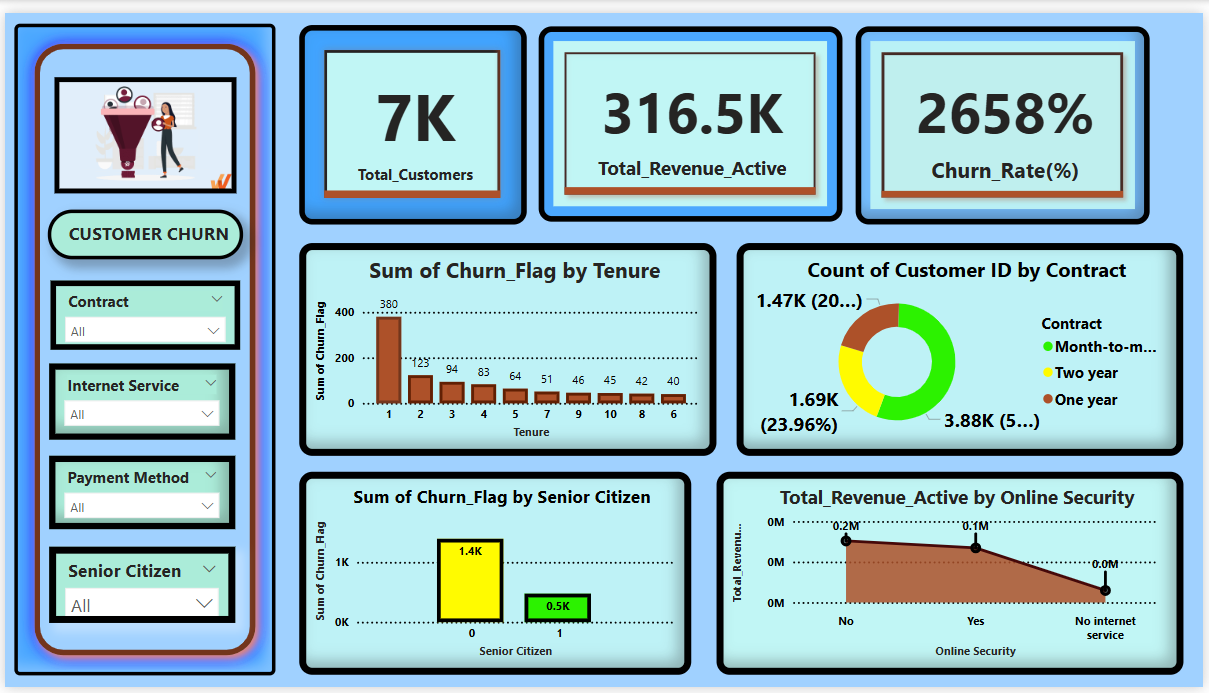

What the dashboard file says about the page in this screenshot:
{"tool":"powerbi","page":{"name":"Page 1","canvas":[1280,720],"ordinal":0},"visuals":[{"type":"shape","box":[10.5,11.8,278.9,696.1],"z":0},{"type":"textbox","title":"CUSTOMER CHURN","box":[45.7,210,208.6,52.9],"z":1000},{"type":"cardVisual","fields":{"Data":["Telco-Customer-Churn Prediction.Total_Customers"]},"box":[314.3,12.9,242.9,212.9],"z":2000},{"type":"cardVisual","fields":{"Data":["Telco-Customer-Churn Prediction.Total_Revenue_Active"]},"box":[570,14.3,324.3,208.6],"z":3000},{"type":"cardVisual","fields":{"Data":["Telco-Customer-Churn Prediction.Churn_Rate(%)"]},"box":[908.6,14.3,314.3,211.4],"z":4000},{"type":"slicer","fields":{"Values":["Telco-Customer-Churn Prediction.Contract"]},"box":[48.6,285.7,202.9,74.3],"z":5000},{"type":"slicer","fields":{"Values":["Telco-Customer-Churn Prediction.Internet Service"]},"box":[47.1,374.3,198.6,81.4],"z":6000},{"type":"slicer","fields":{"Values":["Telco-Customer-Churn Prediction.Payment Method"]},"box":[47.1,472.9,198.6,78.6],"z":7000},{"type":"image","box":[52.9,68.6,194.3,124.3],"z":8000},{"type":"slicer","fields":{"Values":["Telco-Customer-Churn Prediction.Senior Citizen"]},"box":[47.1,570,198.6,81.4],"z":9000},{"type":"clusteredColumnChart","title":"Sum of Churn_Flag by Tenure","fields":{"Category":["Telco-Customer-Churn Prediction.tenure"],"Y":["Sum(Telco-Customer-Churn Prediction.Churn_Flag)"]},"box":[314.3,245.7,445.7,227.1],"z":10000},{"type":"donutChart","fields":{"Category":["Telco-Customer-Churn Prediction.Contract"],"Y":["CountNonNull(Telco-Customer-Churn Prediction.Customer ID)"]},"box":[781.4,245.7,477.1,227.1],"z":11000},{"type":"columnChart","fields":{"Category":["Telco-Customer-Churn Prediction.Senior Citizen"],"Y":["Sum(Telco-Customer-Churn Prediction.Churn_Flag)"]},"box":[314.3,490,418.6,217.1],"z":12000},{"type":"lineChart","fields":{"Category":["Telco-Customer-Churn Prediction.Online Security"],"Y":["Telco-Customer-Churn Prediction.Total_Revenue_Active"]},"box":[760,490,498.6,217.1],"z":13000}]}

Visuals, with their boxes in screenshot pixels (x1, y1, x2, y2), scaled from the page's 1280x720 canvas onto the 1209x693 screenshot:
shape: select_region(10, 11, 273, 681)
"CUSTOMER CHURN" textbox: select_region(43, 202, 240, 253)
cardVisual - Telco-Customer-Churn Prediction.Total_Customers: select_region(297, 12, 526, 217)
cardVisual - Telco-Customer-Churn Prediction.Total_Revenue_Active: select_region(538, 14, 845, 215)
cardVisual - Telco-Customer-Churn Prediction.Churn_Rate(%): select_region(858, 14, 1155, 217)
slicer - Telco-Customer-Churn Prediction.Contract: select_region(46, 275, 238, 346)
slicer - Telco-Customer-Churn Prediction.Internet Service: select_region(44, 360, 232, 439)
slicer - Telco-Customer-Churn Prediction.Payment Method: select_region(44, 455, 232, 531)
image: select_region(50, 66, 233, 186)
slicer - Telco-Customer-Churn Prediction.Senior Citizen: select_region(44, 549, 232, 627)
"Sum of Churn_Flag by Tenure" clusteredColumnChart: select_region(297, 236, 718, 455)
donutChart - Telco-Customer-Churn Prediction.Contract x CountNonNull(Telco-Customer-Churn Prediction.Customer ID): select_region(738, 236, 1189, 455)
columnChart - Telco-Customer-Churn Prediction.Senior Citizen x Sum(Telco-Customer-Churn Prediction.Churn_Flag): select_region(297, 472, 692, 681)
lineChart - Telco-Customer-Churn Prediction.Online Security x Telco-Customer-Churn Prediction.Total_Revenue_Active: select_region(718, 472, 1189, 681)
